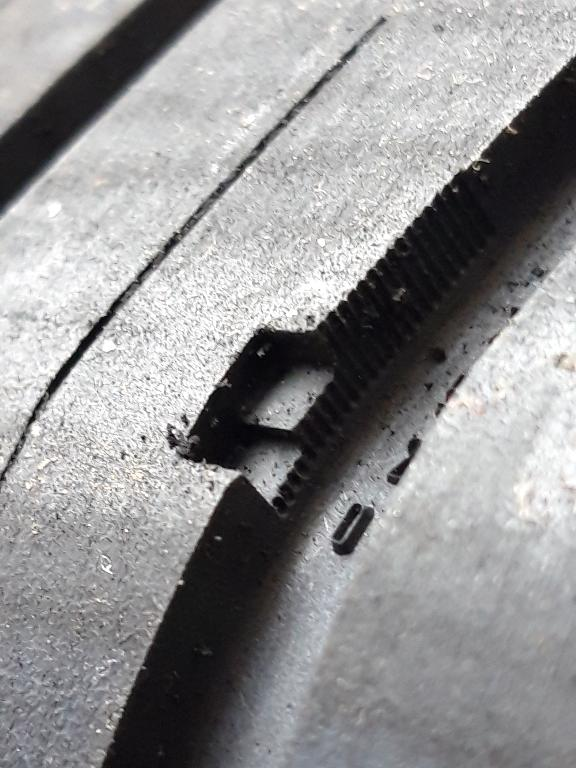temoin:50: (165, 274, 408, 532)
